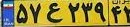character: (43, 1, 65, 27), (64, 1, 81, 26), (28, 1, 43, 27), (80, 1, 95, 27), (93, 1, 108, 27), (15, 1, 29, 27), (109, 5, 122, 26)
